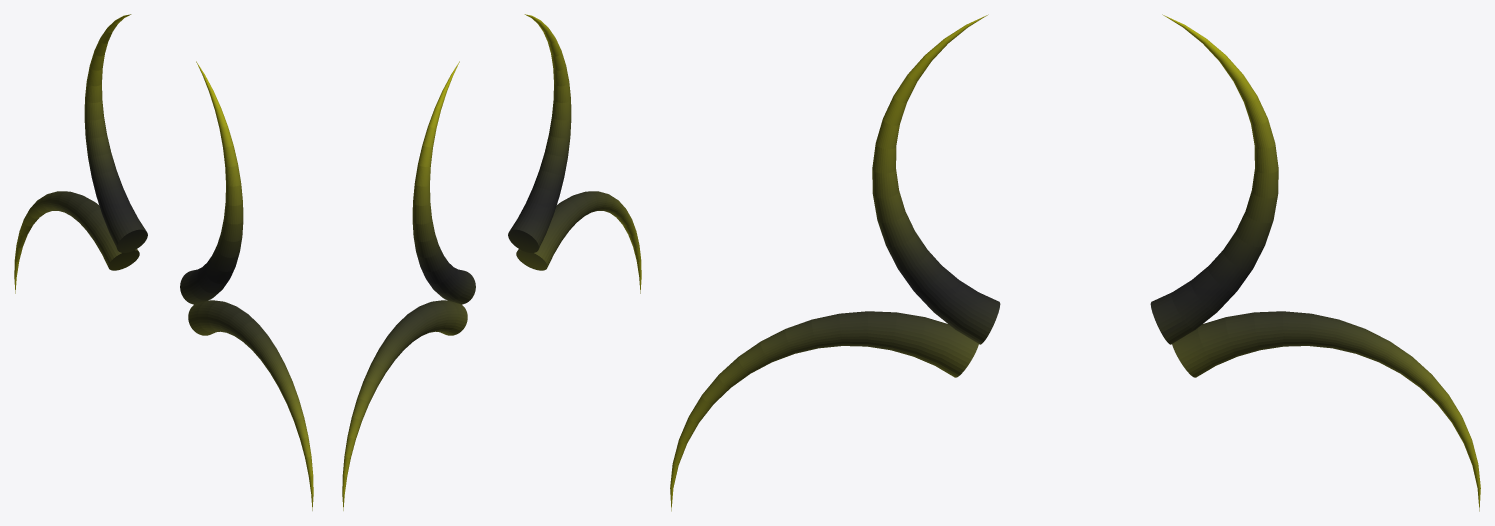
The model's file is NuclearEliteCrown.fbx.
3 views of the same model, side by side, from view 1: azimuth 30°, elevation 25°; view 2: azimuth 150°, elevation 25°; view 3: azimuth 270°, elevation 25° (orthographic). The views are drawn at different scales.
Parts seen in each view (by area): view 1: Cylinder; view 2: Cylinder; view 3: Cylinder.
Boxes of the visible parts, x1,y1,x2,y2 form: Cylinder: (14, 14, 313, 510); Cylinder: (342, 14, 641, 510); Cylinder: (670, 14, 1480, 511).
Size of the model in its own units: 64 by 747 by 1102.
1 material, 1 textured.
